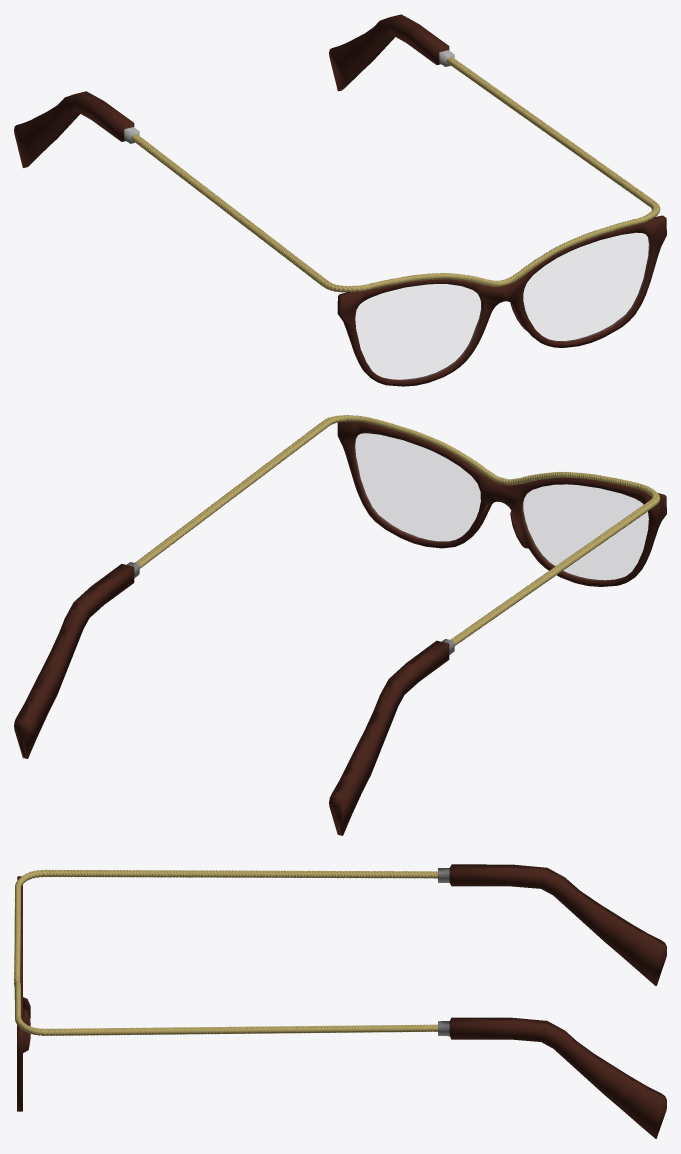
The picture shows the model from 3 angles, top to bottom: view 1: azimuth 30°, elevation 25°; view 2: azimuth 150°, elevation 25°; view 3: azimuth 270°, elevation 25°; orthographic projection.
Visible parts, largest first — view 1: f13; view 2: f13; view 3: f13.
Boxes of the visible parts, x1,y1,x2,y2 form: f13: (14,14,666,386); f13: (14,415,666,835); f13: (14,864,666,1138).
Bounding box in the file's own units: 13.83 × 4.69 × 23.47.
